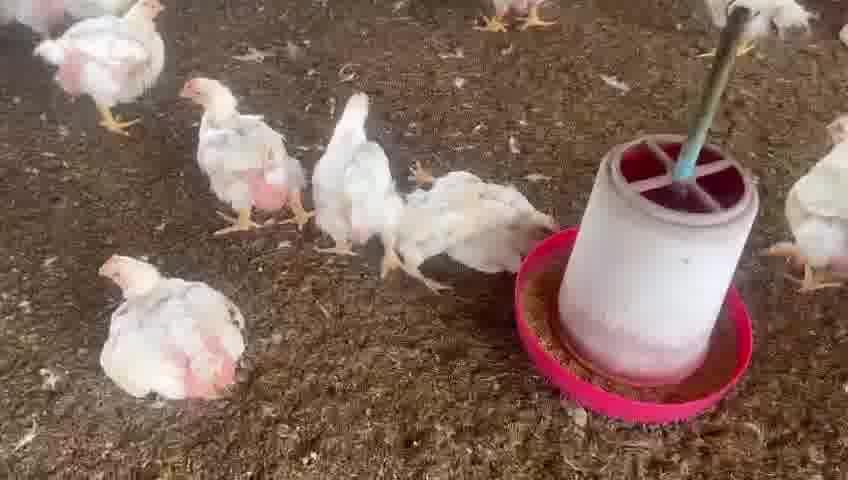AbNormal: (86, 254, 245, 399), (400, 158, 556, 246)
Normal: (179, 75, 313, 234), (34, 1, 168, 134), (318, 92, 399, 277), (772, 114, 848, 295), (482, 3, 556, 36)
